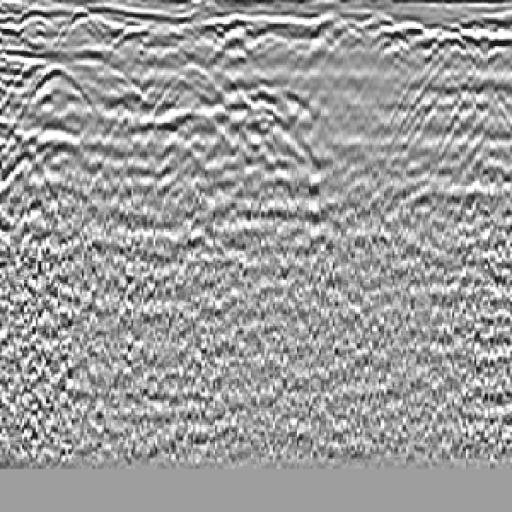non-metallic: (1, 33, 132, 276)
